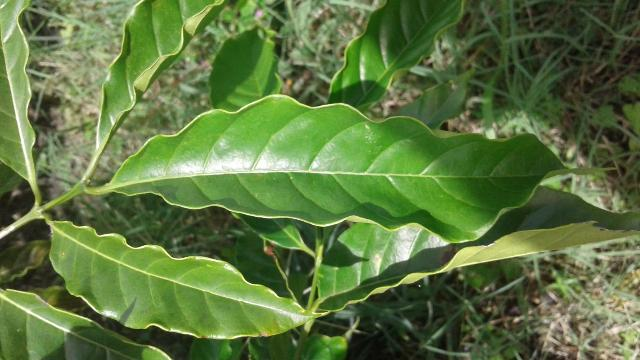healthy: (104, 86, 627, 248)
